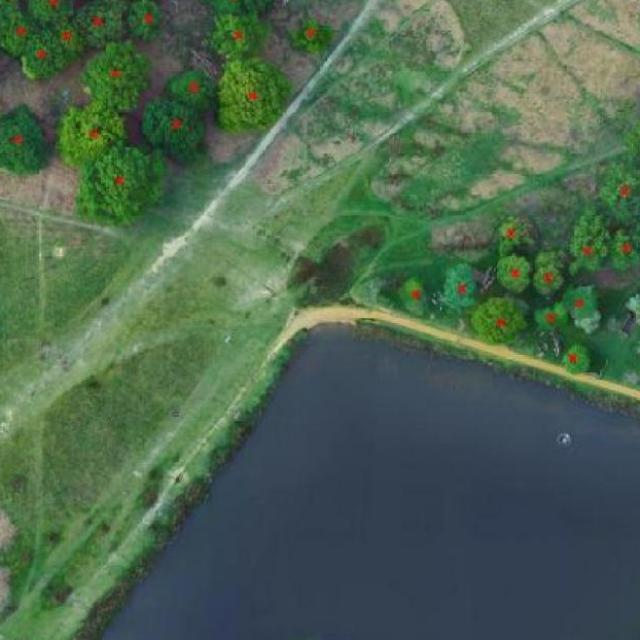tree: (74, 136, 171, 230), (49, 92, 132, 172), (213, 56, 293, 132), (139, 96, 213, 162), (82, 45, 152, 110), (562, 196, 616, 278), (0, 102, 54, 179), (469, 294, 536, 350), (204, 13, 272, 67), (164, 65, 223, 115), (590, 158, 640, 217), (438, 260, 486, 318), (72, 0, 130, 44), (288, 16, 341, 64), (559, 283, 609, 333), (392, 273, 437, 320), (22, 28, 64, 78), (527, 249, 570, 297), (50, 14, 91, 64), (612, 111, 640, 184), (490, 211, 537, 253), (491, 251, 535, 294), (0, 14, 38, 62), (196, 0, 279, 21), (556, 338, 598, 378), (529, 298, 571, 334), (130, 0, 164, 39), (610, 228, 640, 272), (33, 0, 69, 24), (0, 0, 29, 23), (626, 292, 640, 336), (635, 336, 640, 370)
